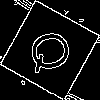Q: (25, 25, 82, 76)
